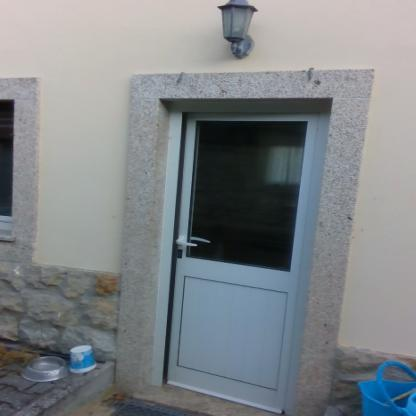door: (180, 111, 324, 404)
lever: (170, 240, 197, 251)
